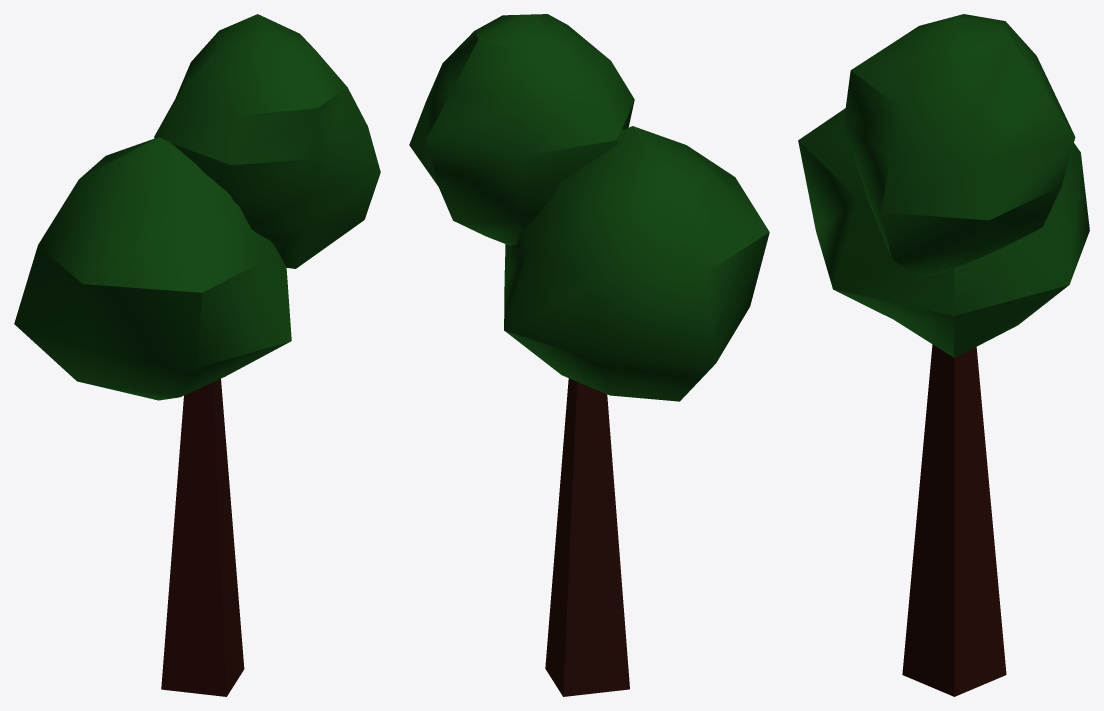
File: M_Tree_01.fbx
3 views of the same model, side by side, from view 1: azimuth 30°, elevation 25°; view 2: azimuth 150°, elevation 25°; view 3: azimuth 270°, elevation 25° (orthographic). The views are drawn at different scales.
Parts seen in each view (by area): view 1: transform32; view 2: transform32; view 3: transform32.
Boxes of the visible parts, x1,y1,x2,y2 form: transform32: (14,14,380,696); transform32: (409,14,769,696); transform32: (798,14,1089,696).
Bounding box in the file's own units: 2.43 × 4.67 × 1.79.
